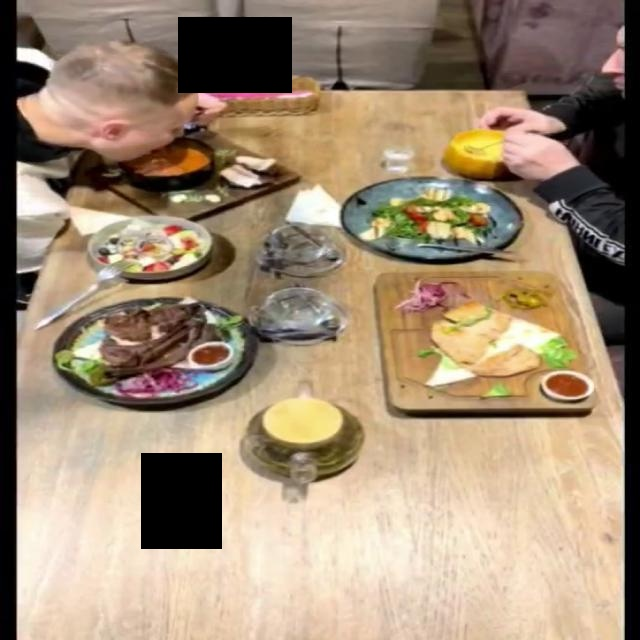meat: (365, 263, 599, 420), (50, 295, 261, 405)
salad: (343, 176, 525, 260), (85, 213, 214, 278)
soup: (73, 130, 302, 220), (442, 129, 517, 178)
tea: (243, 393, 366, 481)
